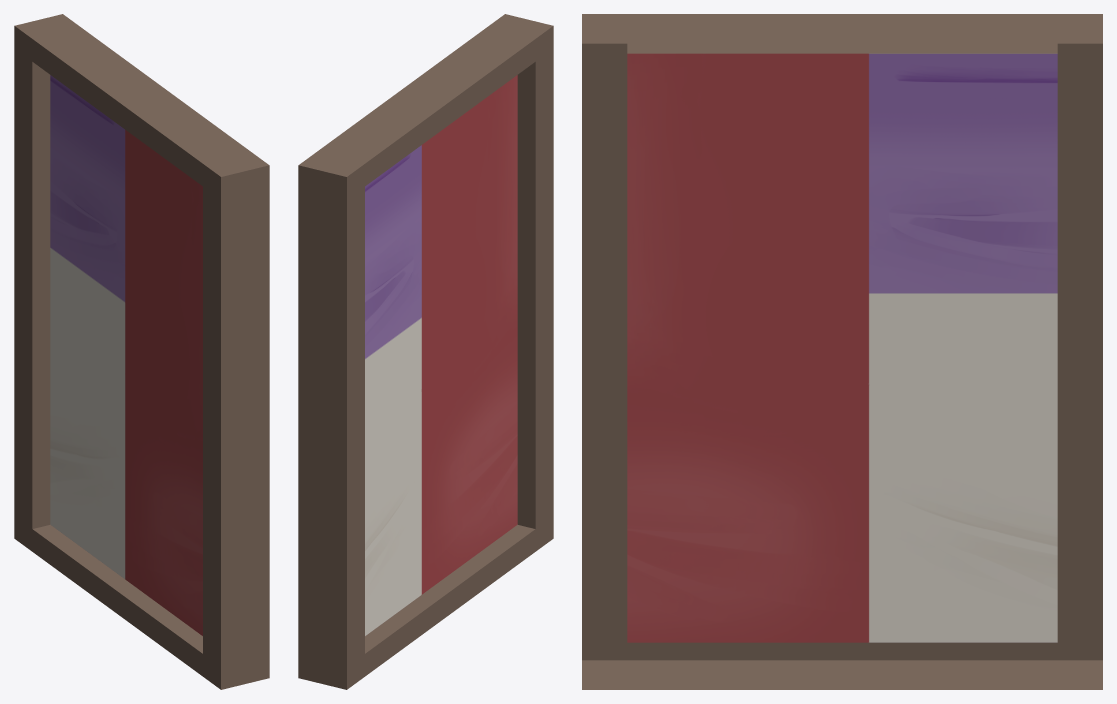
The model's file is picture.fbx.
3 renders of one model, left to right at view 1: azimuth 30°, elevation 25°; view 2: azimuth 150°, elevation 25°; view 3: azimuth 270°, elevation 25°, orthographic. The views are drawn at different scales.
Parts seen in each view (by area): view 1: picture; view 2: picture; view 3: picture.
Boxes of the visible parts, bbox=[...] form: picture: bbox=[14, 14, 269, 689]; picture: bbox=[298, 14, 553, 689]; picture: bbox=[582, 14, 1102, 689].
Size of the model in its own units: 0.0609 by 0.6167 by 0.4504.
